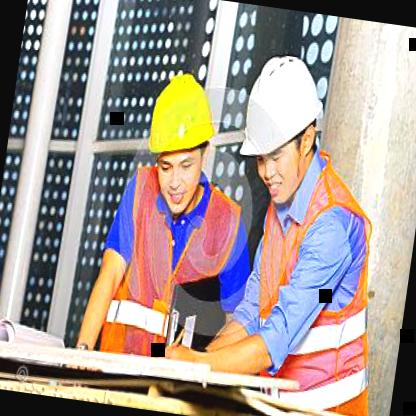helmet: (219, 25, 344, 226), (132, 52, 230, 224)
